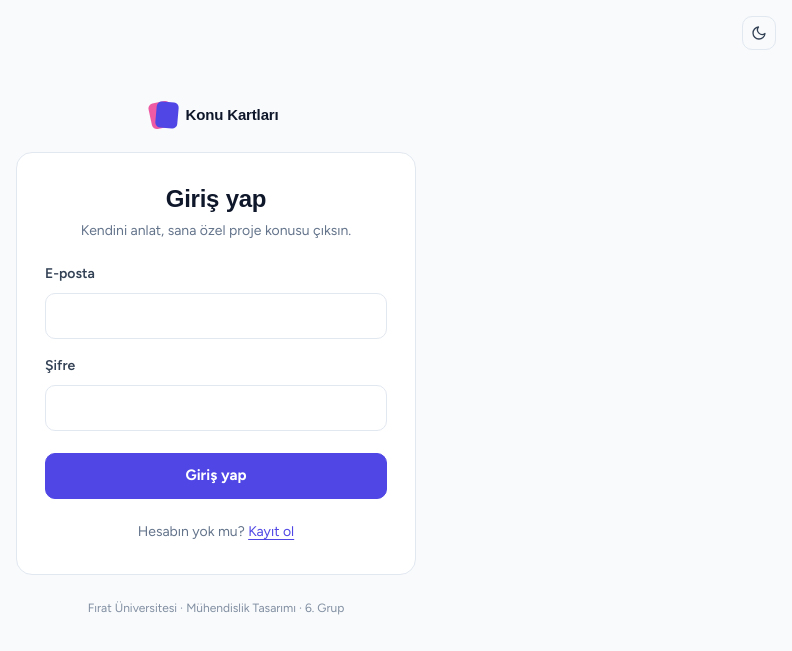
Giriş › yanlış şifrede sunucunun mesajını gösterir
The width and height of the screenshot is (792, 651).
Type "ayse@ornek.com" into the field labelled "E-posta".
click(216, 316); type("ayse@ornek.com")  # box [45,293,387,339]
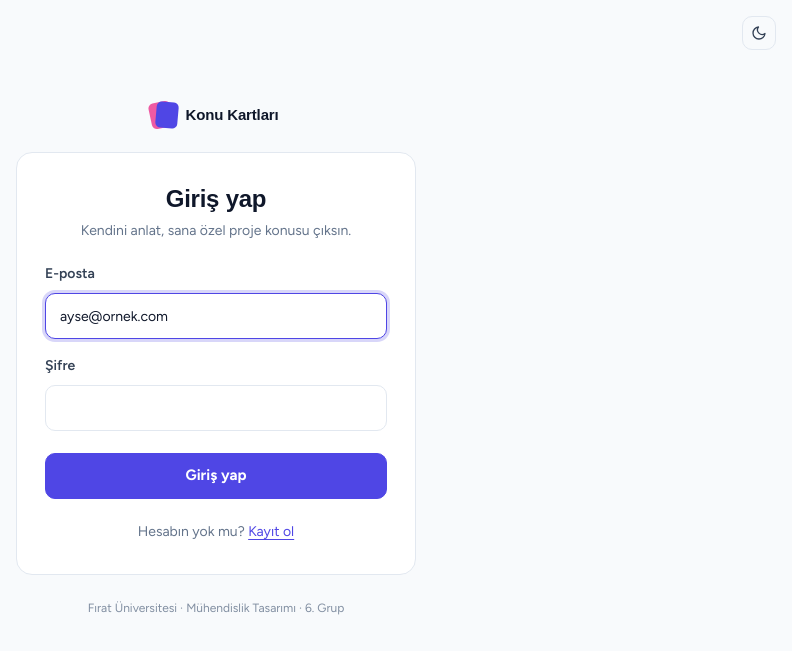
Type "yanlis1" into the password field labelled "Şifre".
click(216, 408); type("yanlis1")  # box [45,385,387,431]
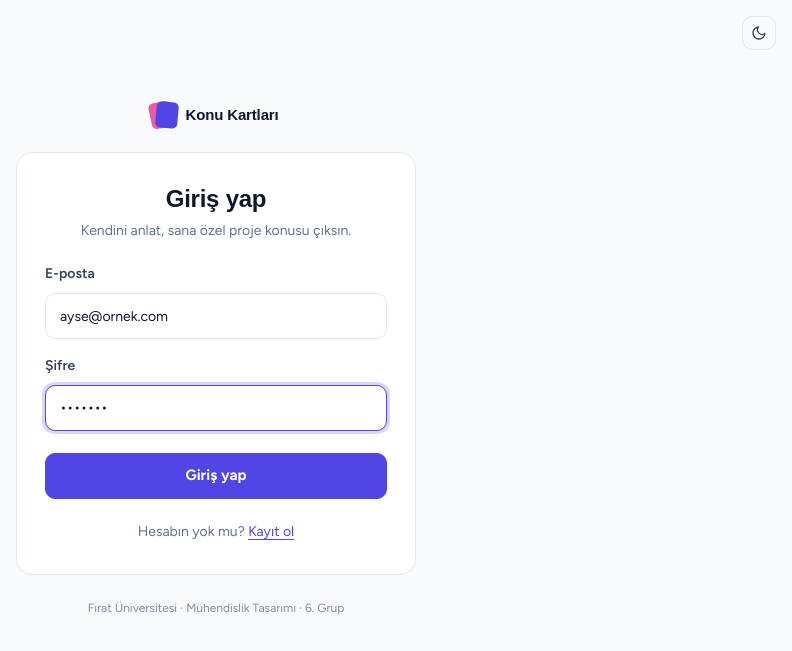
Click the button "Giriş yap".
click(216, 476)  # box [45,453,387,499]
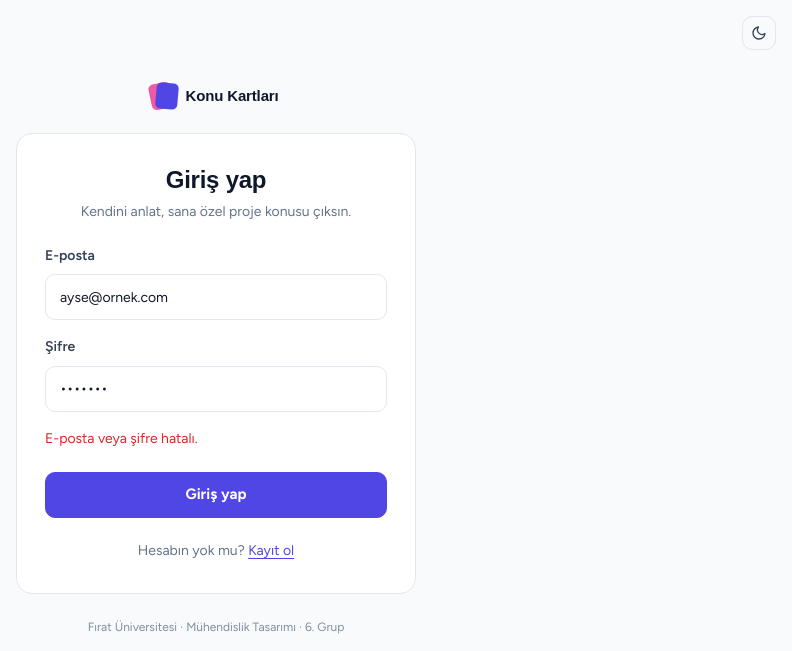
Now the message reads "E-posta veya şifre hatalı.", box [45,430,198,447]
